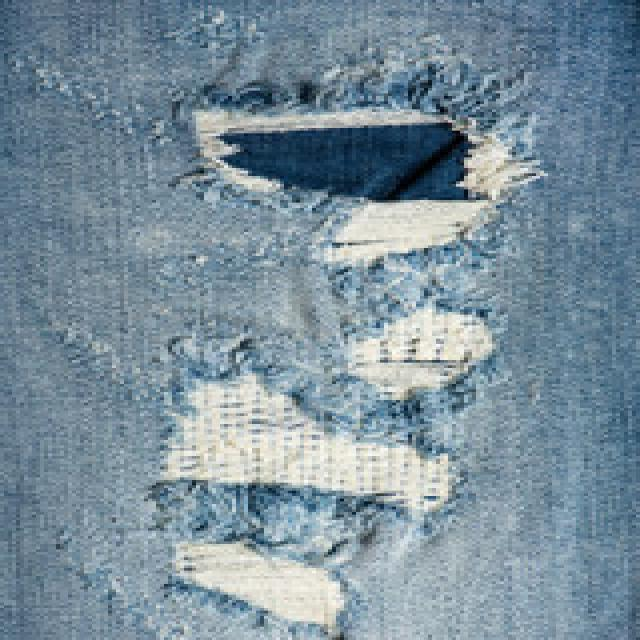Hole: (157, 374, 449, 640), (196, 108, 538, 264), (351, 308, 494, 400)
